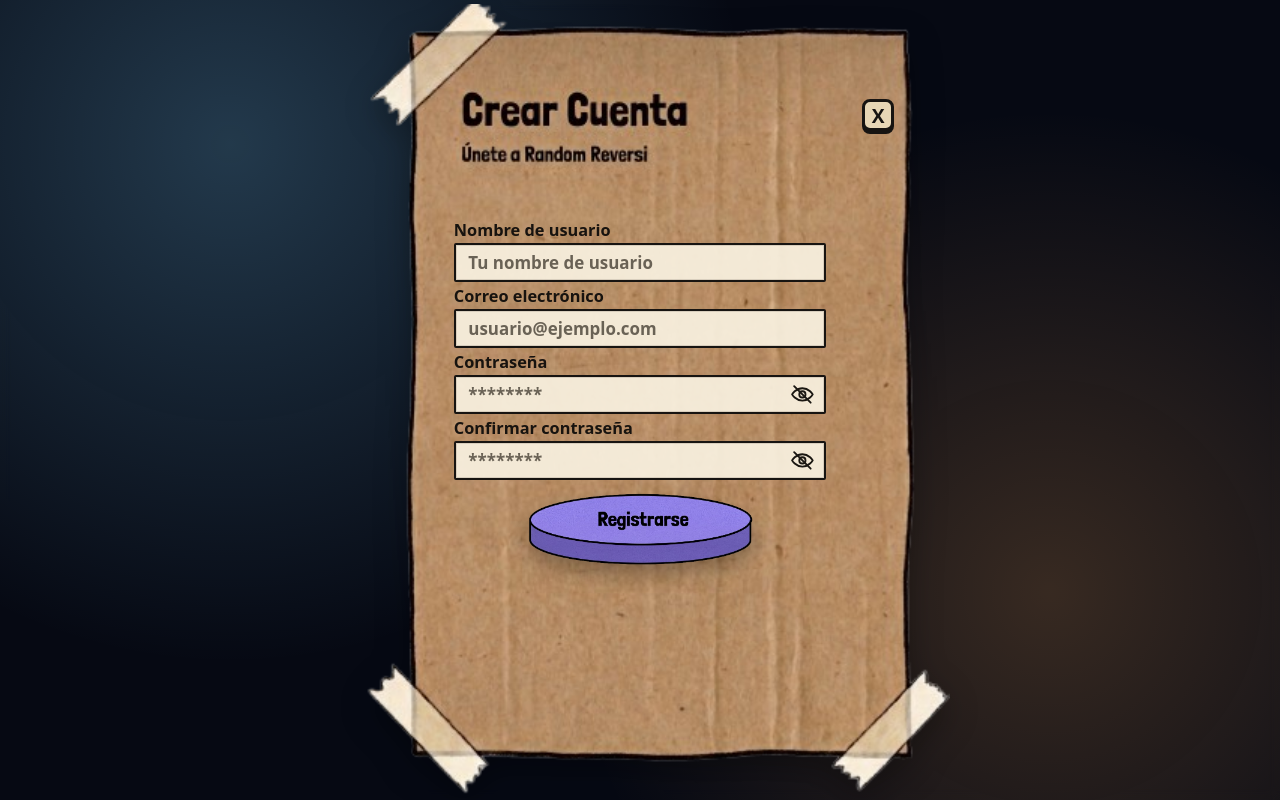
Test: RegisterModal › shows the api error when registration fails
The width and height of the screenshot is (1280, 800).
Type "repetido" into the field with placeholder "Tu nombre de usuario".
click(640, 262); type("repetido")  # box [454,243,826,282]
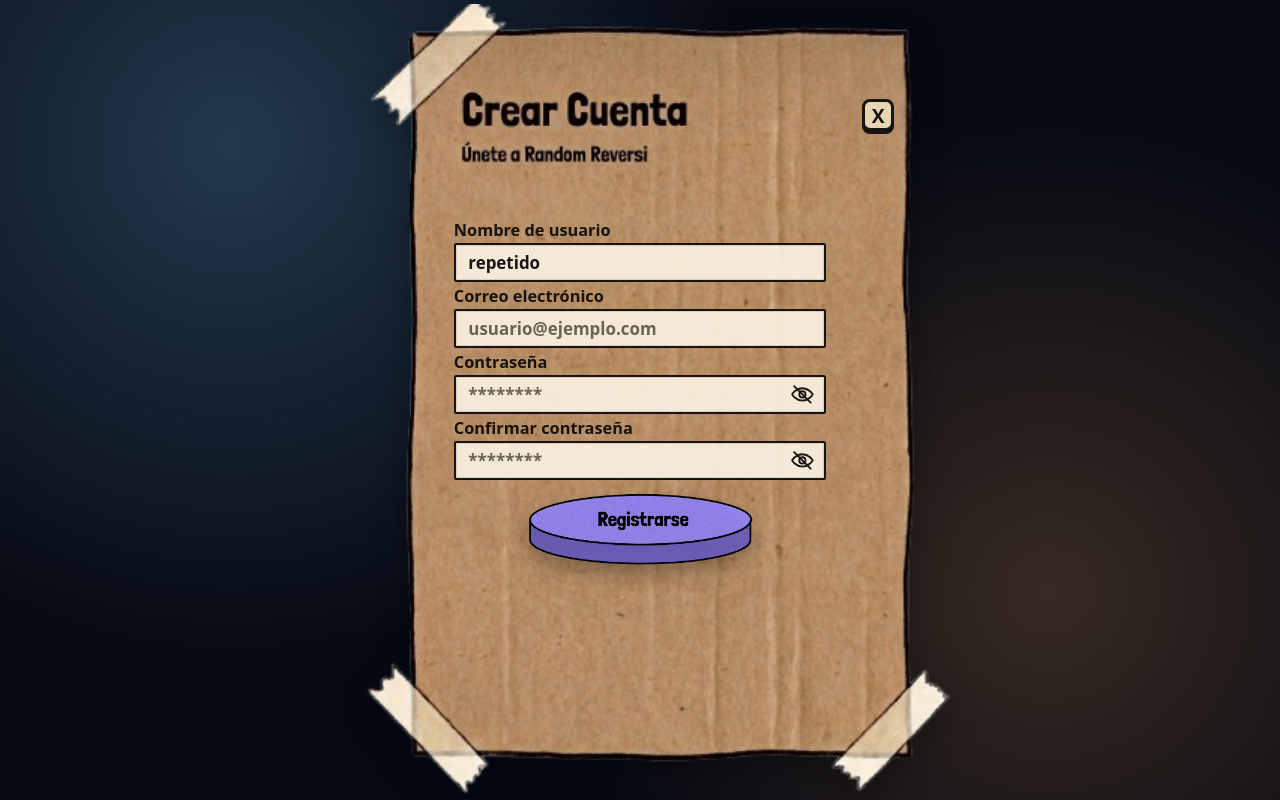
Type "repetido@correo.com" into the field with placeholder "usuario@ejemplo.com".
click(640, 328); type("repetido@correo.com")  # box [454,309,826,348]
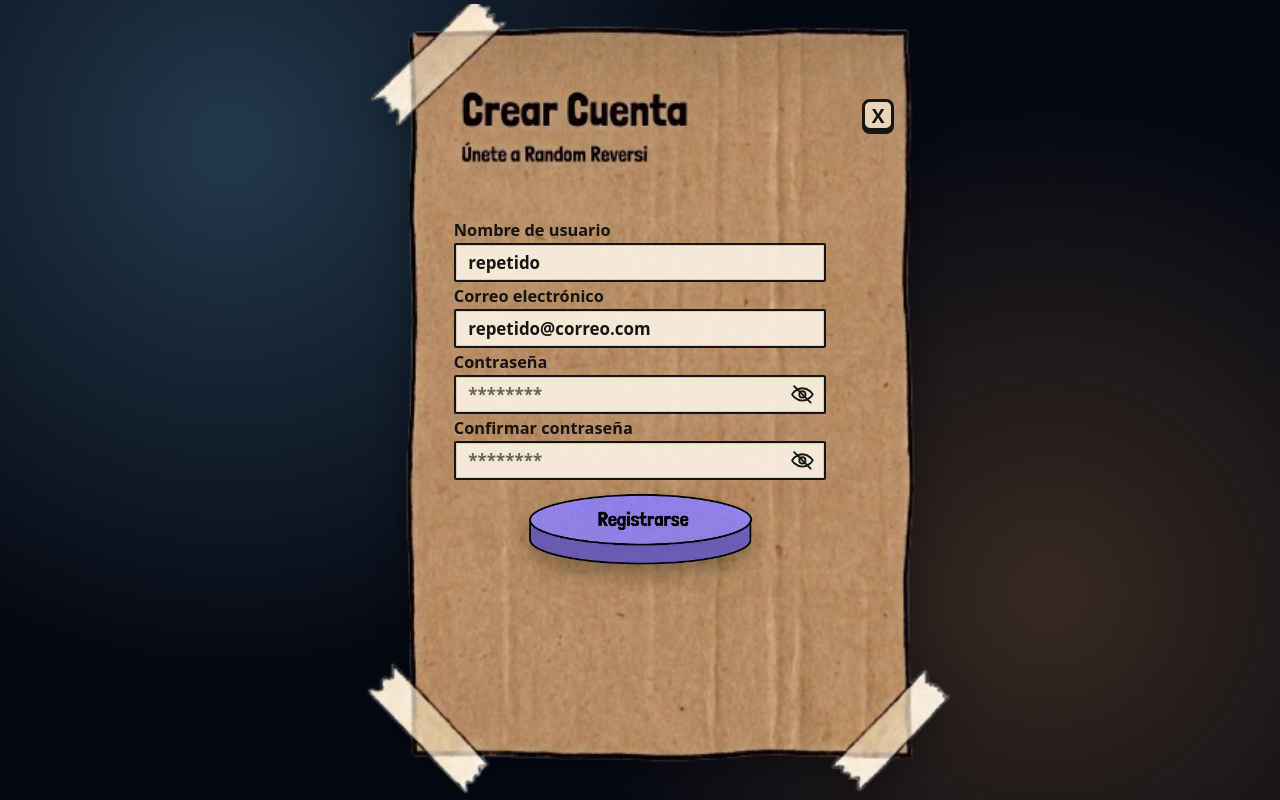
Type "clave123" into the password field labelled "Contraseña".
click(640, 394); type("clave123")  # box [454,375,826,414]
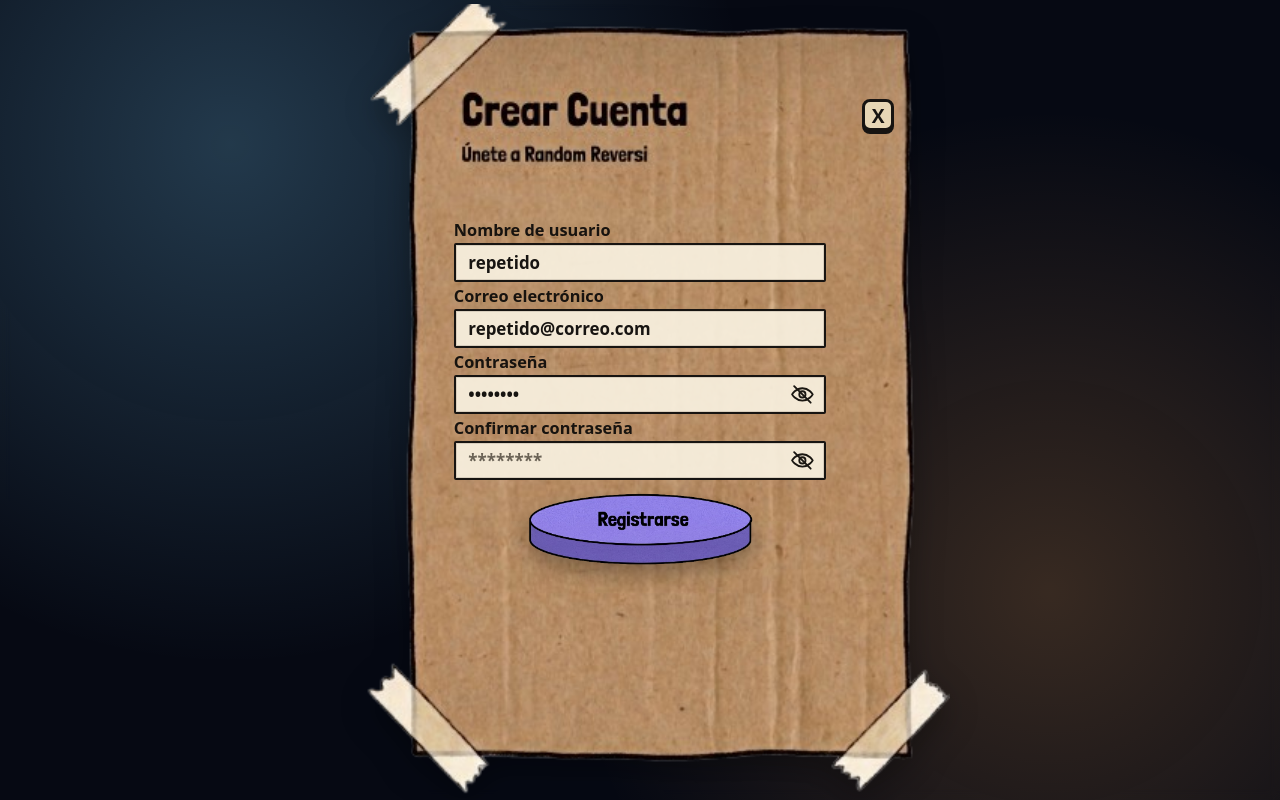
Type "clave123" into the password field labelled "Confirmar contraseña".
click(640, 461); type("clave123")  # box [454,441,826,480]
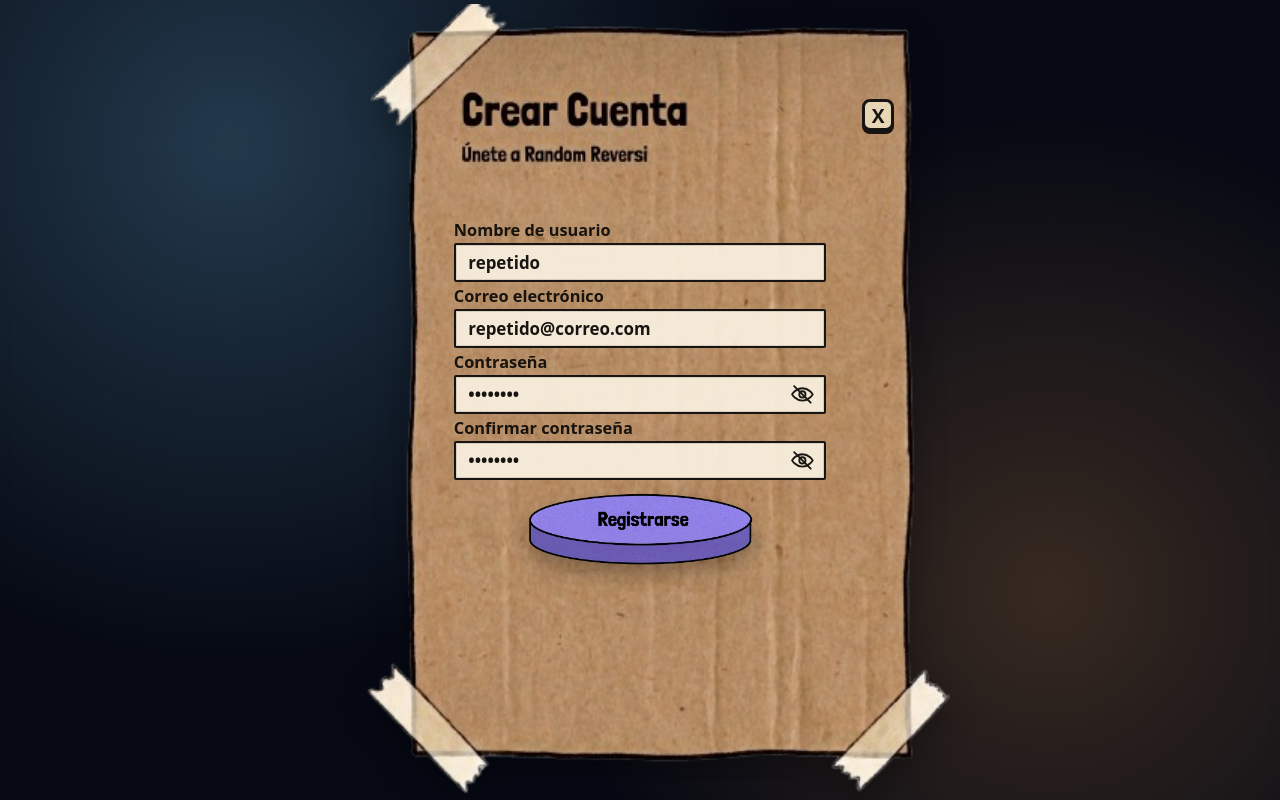
Click the button named "Registrarse".
click(640, 530)  # box [510,489,770,571]
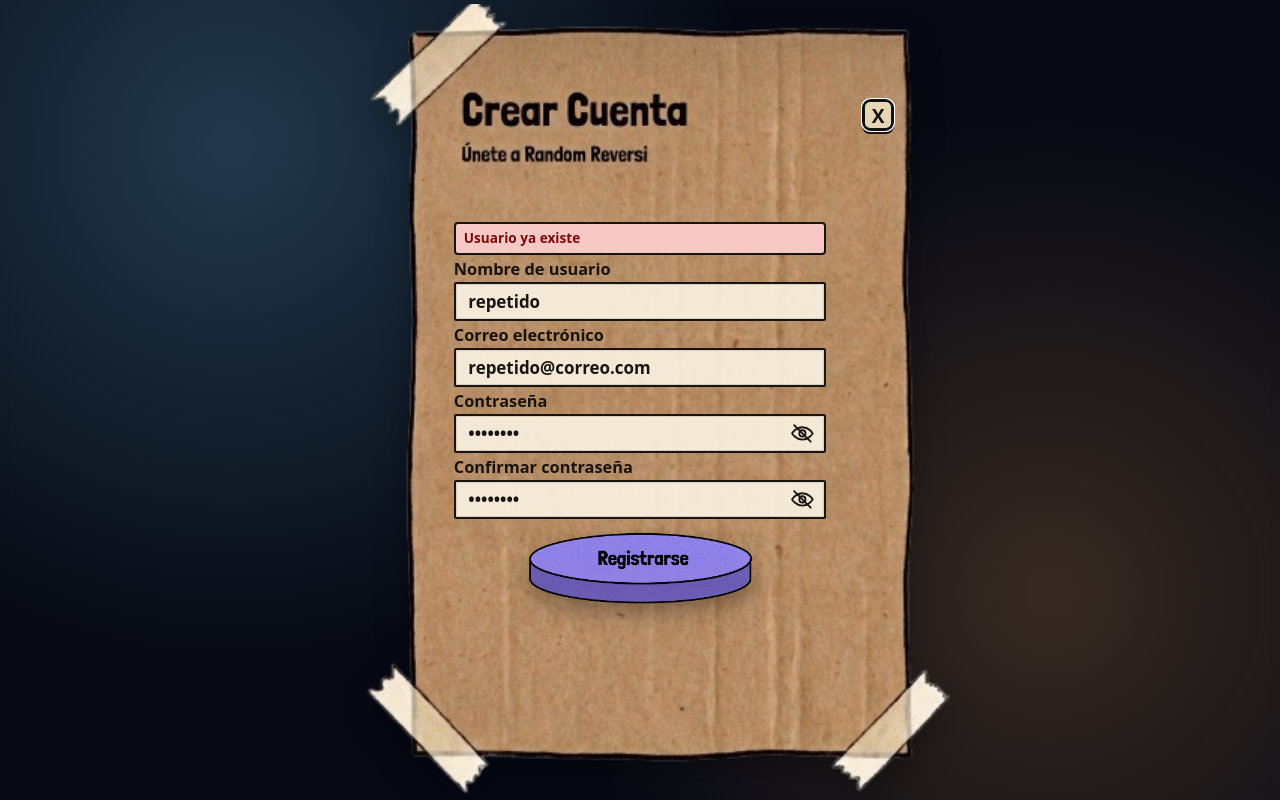
Expected: the text "Usuario ya existe" is shown, [454,222,826,255]
